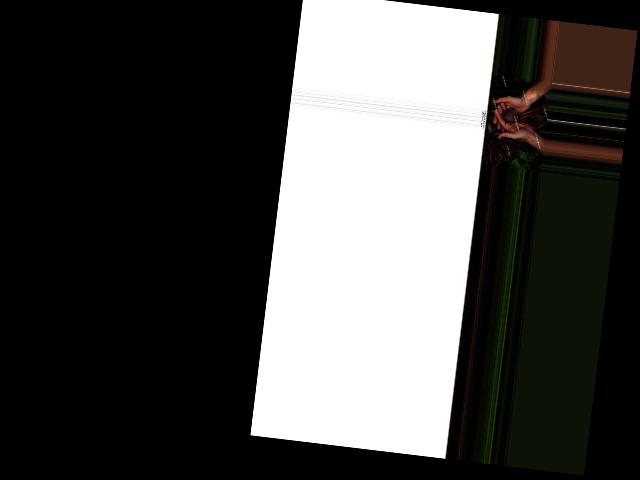beet: (499, 98, 548, 131)
